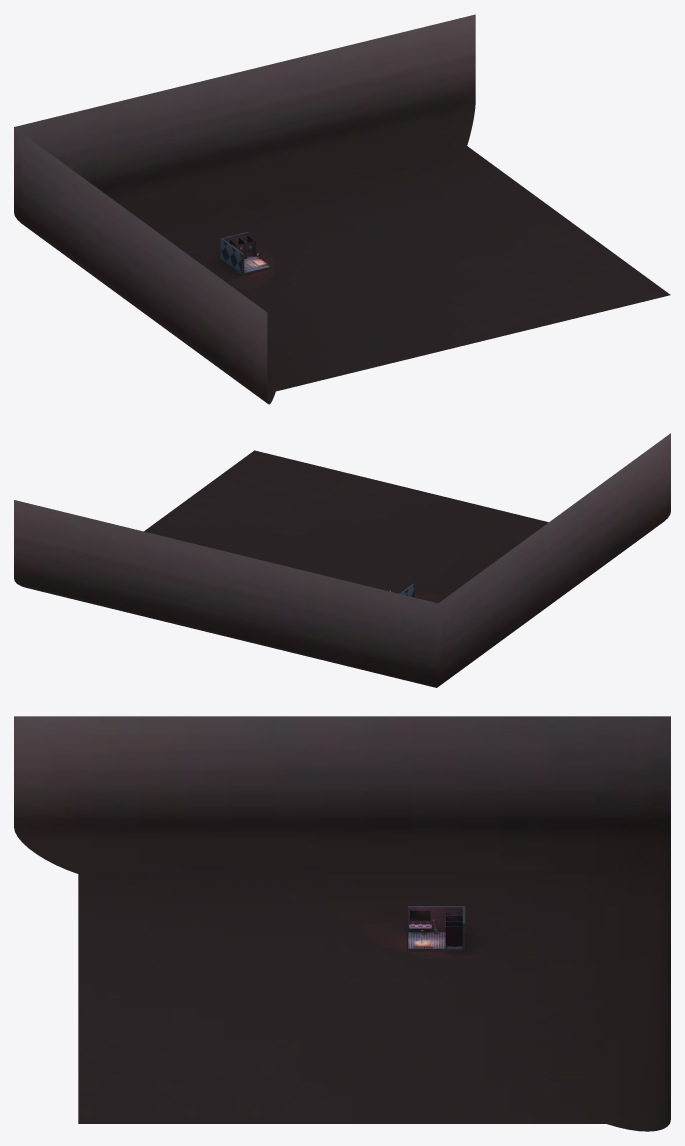
File: f-toilet-transformed.glb
3 views of the same model, one above another, from view 1: azimuth 30°, elevation 25°; view 2: azimuth 150°, elevation 25°; view 3: azimuth 270°, elevation 25° (orthographic). The views are drawn at different scales.
Visible parts, largest first — view 1: FT-Set3; view 2: FT-Set3; view 3: FT-Set3, FT-Set1.
Part boxes in pixels (bbox=[...]): FT-Set3: bbox=[14, 14, 670, 404]; FT-Set3: bbox=[14, 433, 670, 687]; FT-Set3: bbox=[14, 716, 670, 1131]; FT-Set1: bbox=[409, 912, 462, 948].
Size of the model in its own units: 97.21 by 21.18 by 92.35.
Materials: 6 (6 with a texture image).
